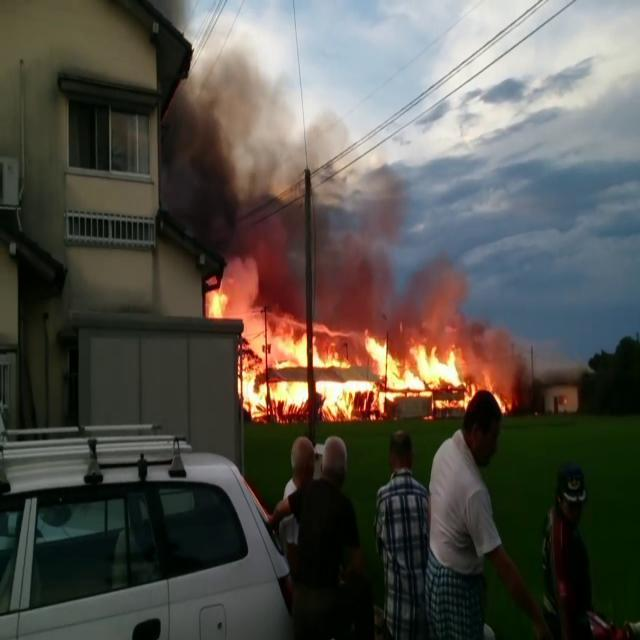Fire: (245, 318, 490, 412)
Smoke: (188, 95, 276, 285)
